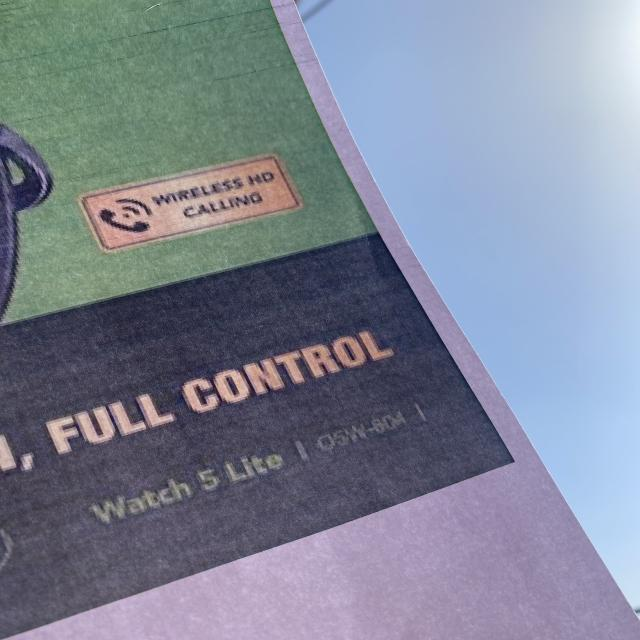Watch 5 Lite OSW-804: (76, 394, 438, 540)
